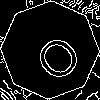O: (25, 25, 85, 85)
